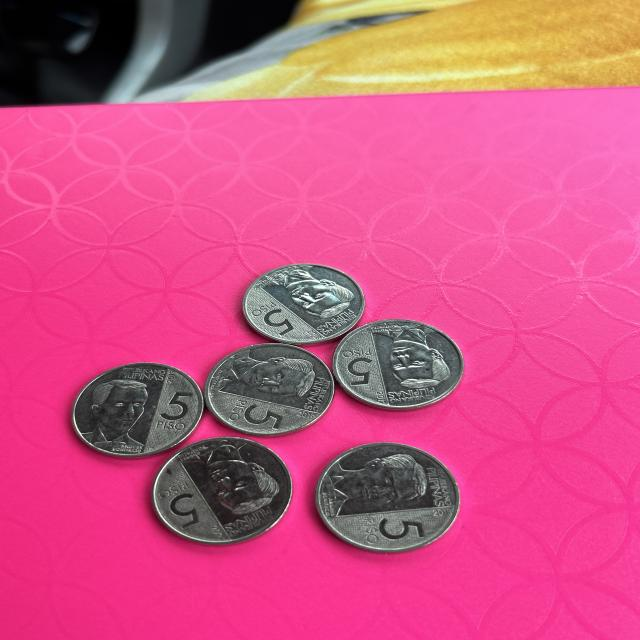5_New_Front: (154, 479, 210, 531), (358, 514, 430, 552), (225, 397, 292, 434), (332, 347, 381, 390), (246, 297, 294, 340), (154, 389, 193, 434)
